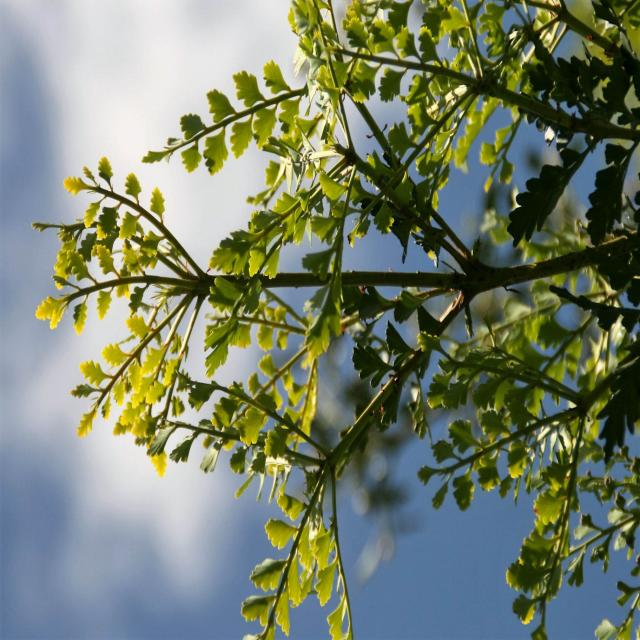Phyllocladus trichomanoides: (18, 12, 640, 640)
